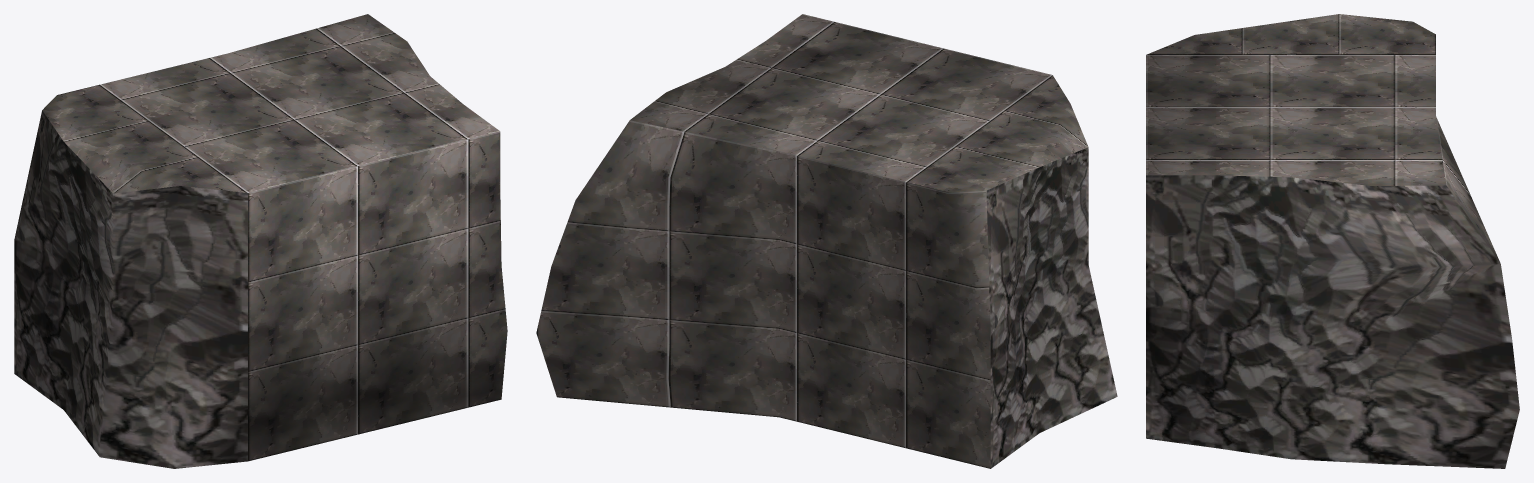
File: INST_SM_DEBRIS_BLOCK_MEDIUMB.fbx
3 views of the same model, side by side, from view 1: azimuth 30°, elevation 25°; view 2: azimuth 150°, elevation 25°; view 3: azimuth 270°, elevation 25° (orthographic). The views are drawn at different scales.
Visible parts, largest first — view 1: INST_SM_DEBRIS_BLOCK_MEDIUMB; view 2: INST_SM_DEBRIS_BLOCK_MEDIUMB; view 3: INST_SM_DEBRIS_BLOCK_MEDIUMB.
Part boxes in pixels (bbox=[...]): INST_SM_DEBRIS_BLOCK_MEDIUMB: bbox=[14, 14, 507, 468]; INST_SM_DEBRIS_BLOCK_MEDIUMB: bbox=[536, 14, 1117, 468]; INST_SM_DEBRIS_BLOCK_MEDIUMB: bbox=[1146, 14, 1519, 468].
Size of the model in its own units: 51137 by 30000 by 38679.
2 materials, 2 textured.
